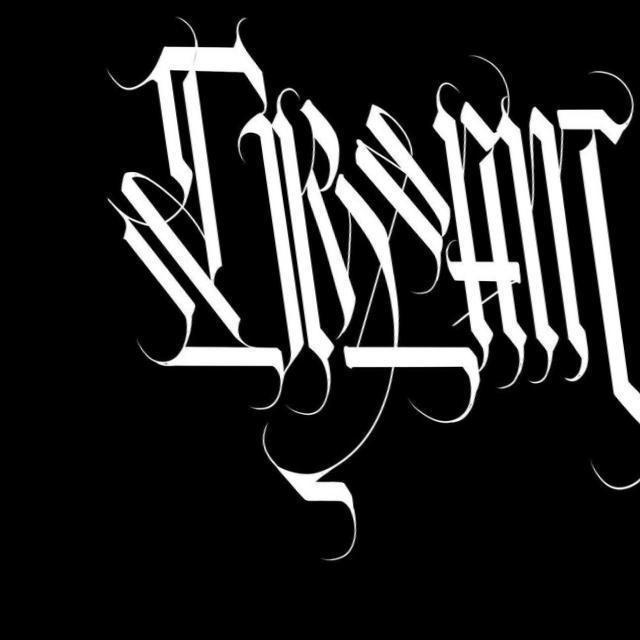nonspitting: (108, 17, 640, 566)
